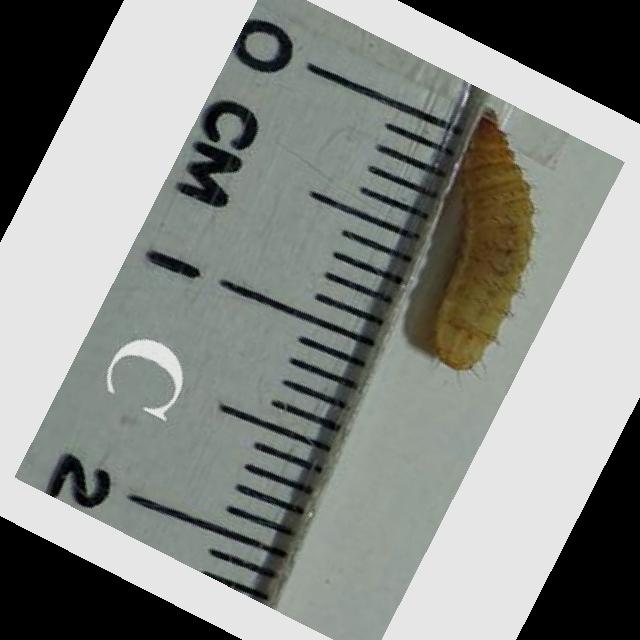Maggot: (425, 108, 535, 372)
